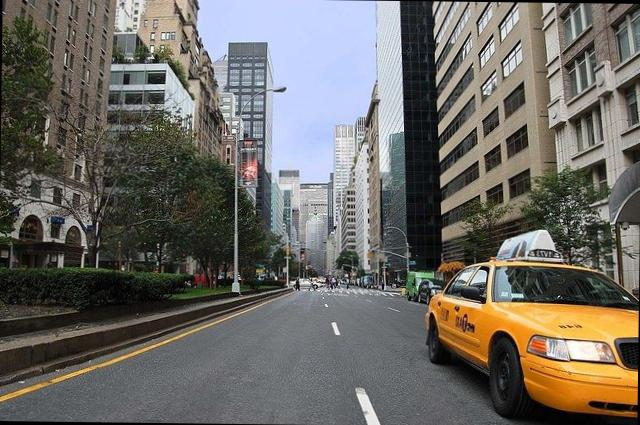taxi: (424, 248, 640, 416)
